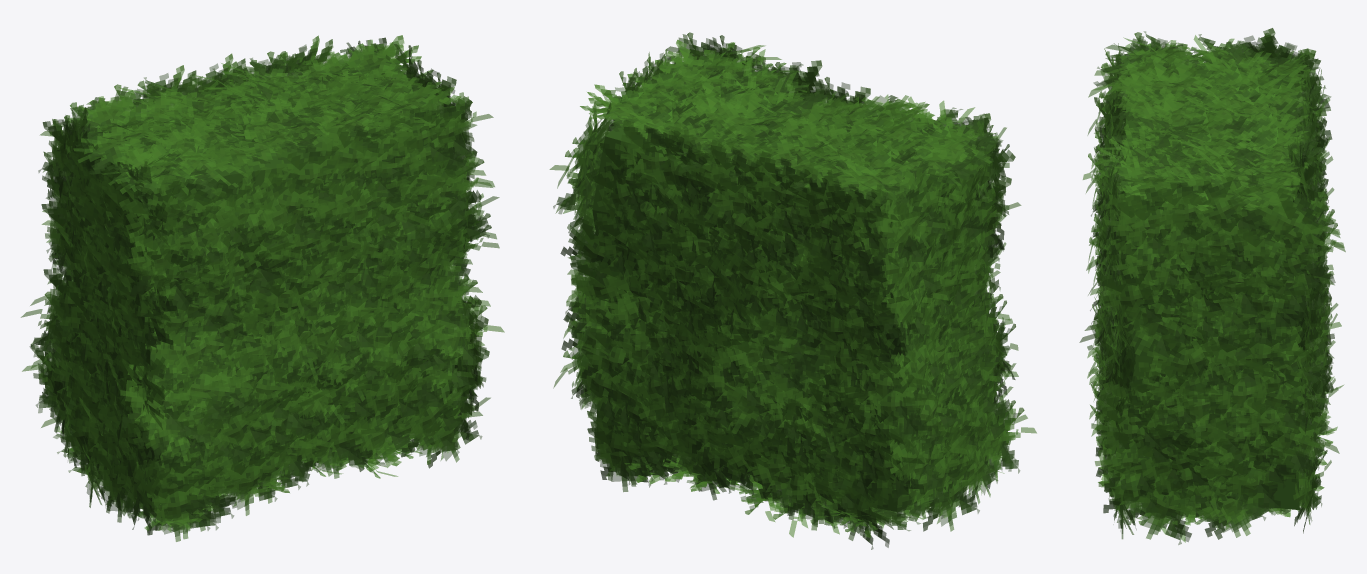
The model's file is Hedge1.glb.
3 views of the same model, side by side, from view 1: azimuth 30°, elevation 25°; view 2: azimuth 150°, elevation 25°; view 3: azimuth 270°, elevation 25° (orthographic). The views are drawn at different scales.
Parts seen in each view (by area): view 1: Cube.033; view 2: Cube.033; view 3: Cube.033.
Boxes of the visible parts, x1,y1,x2,y2 form: Cube.033: [21, 35, 504, 541]; Cube.033: [549, 32, 1036, 549]; Cube.033: [1079, 28, 1345, 544].
Bounding box in the file's own units: 10.75 × 10.78 × 6.8.
Materials: 2 (2 with a texture image).
